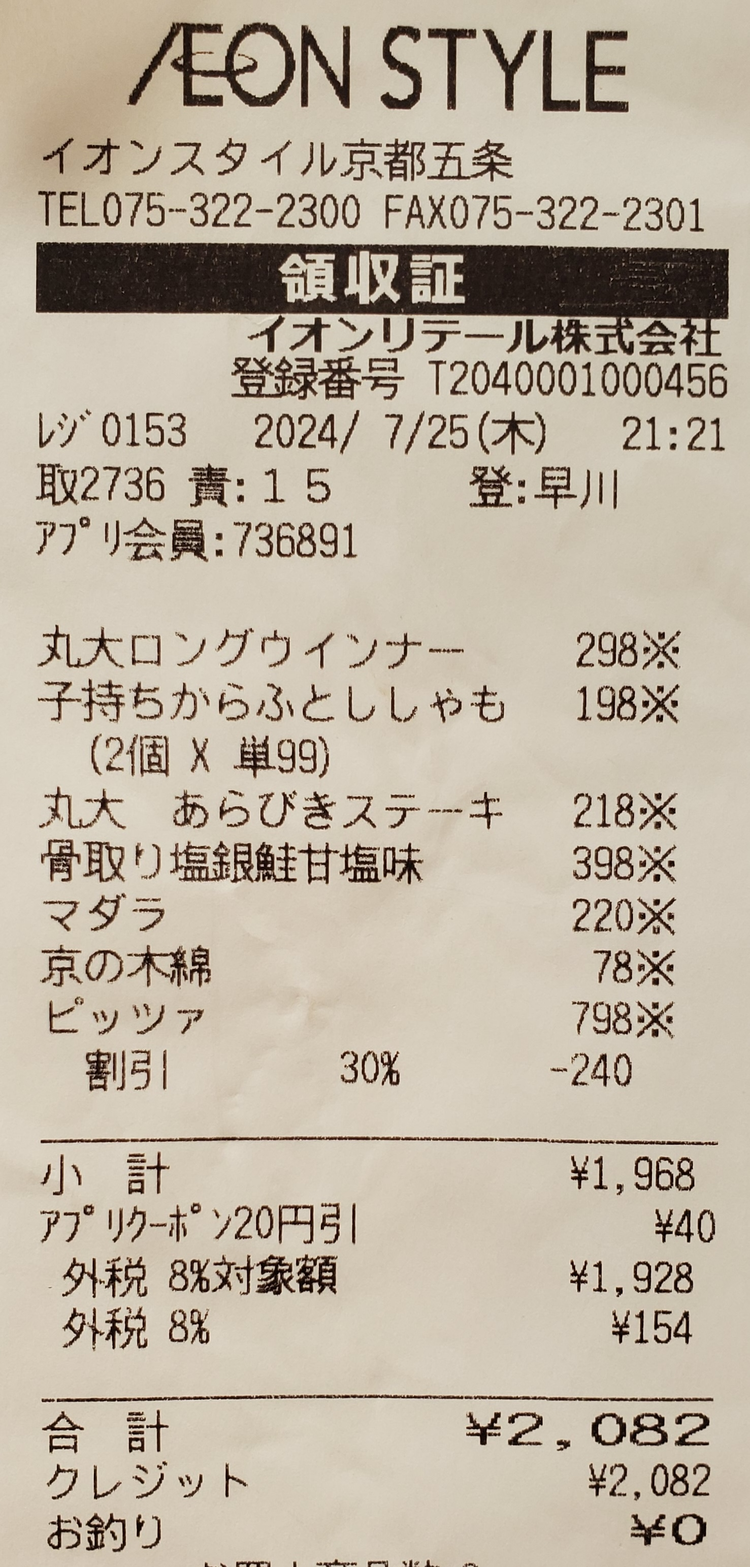Date: (254, 406, 475, 459)
Shopname: (99, 7, 651, 131)
Telnum: (94, 182, 369, 237)
Totalpay: (44, 1408, 718, 1461)
